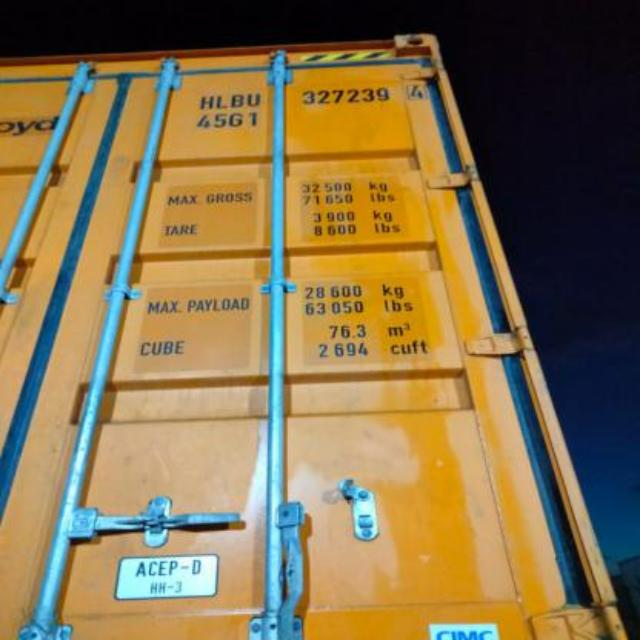2: (316, 86, 332, 110), (346, 85, 360, 111)
3: (360, 84, 376, 108), (302, 88, 316, 110)
4: (402, 77, 428, 106)
7: (332, 87, 344, 105)
9: (376, 78, 390, 108)
B: (230, 90, 246, 112)
H: (195, 92, 215, 112)
L: (214, 90, 230, 112)
U: (248, 88, 260, 110)
